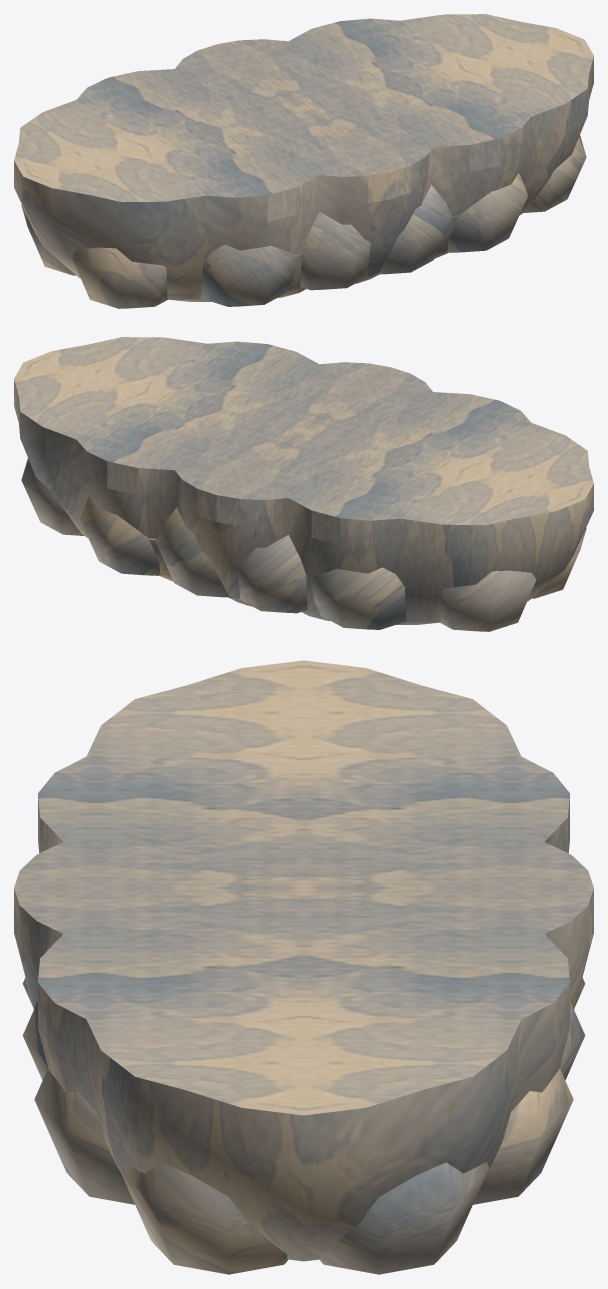
The model's file is toad-prop-ride-cloud.glb.
3 renders of one model, top to bottom at view 1: azimuth 30°, elevation 25°; view 2: azimuth 150°, elevation 25°; view 3: azimuth 270°, elevation 25°, orthographic. The views are drawn at different scales.
Visible parts, largest first — view 1: ride-cloud; view 2: ride-cloud; view 3: ride-cloud.
Boxes of the visible parts, x1=… form: ride-cloud: x1=14, y1=14, x2=593, y2=308; ride-cloud: x1=14, y1=337, x2=593, y2=631; ride-cloud: x1=14, y1=660, x2=593, y2=1274.
Bounding box in the file's own units: 0.26 × 0.06 × 0.14.
1 material, 1 textured.
